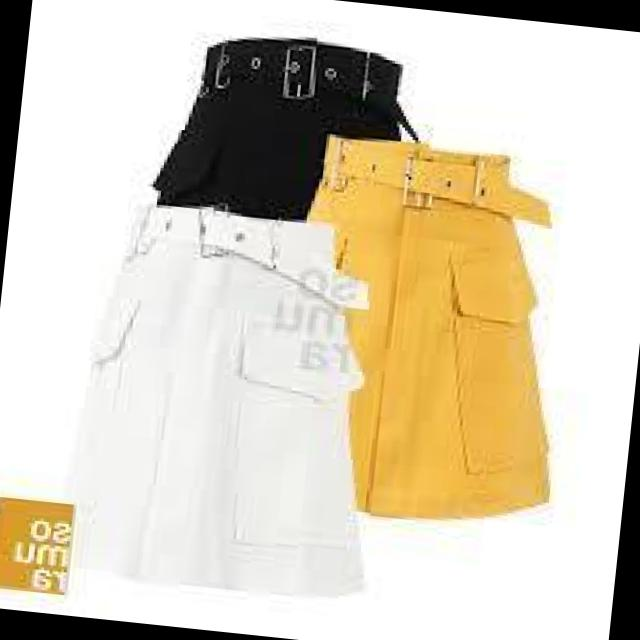skirt: (48, 203, 390, 605), (283, 136, 584, 528)
